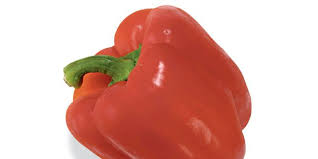bell pepper: (37, 4, 272, 159)
